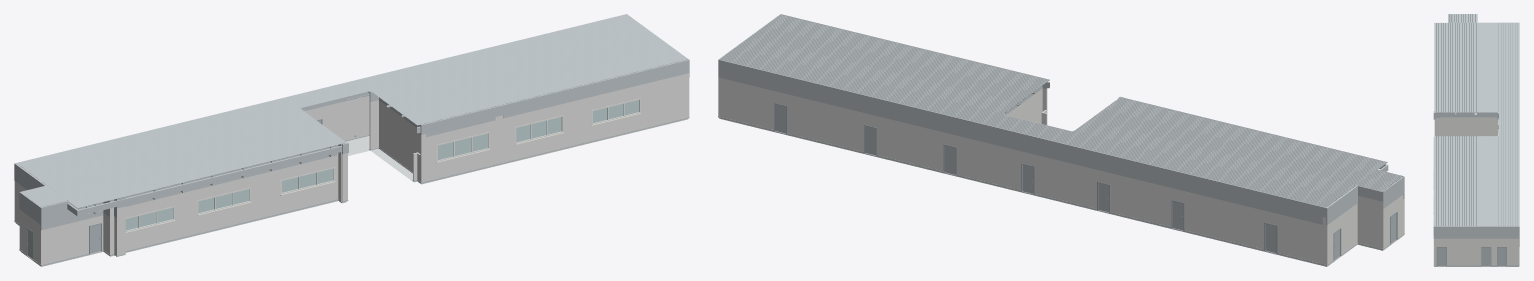
File: space-editor.meshopt.glb
3 views of the same model, side by side, from view 1: azimuth 30°, elevation 25°; view 2: azimuth 150°, elevation 25°; view 3: azimuth 270°, elevation 25° (orthographic). The views are drawn at different scales.
Parts seen in each view (by area): view 1: Space_ceiling, Space_windows, Wall_35_Clean, Wall_18_Clean, Wall_34_Clean, Wall_27_Clean, Wall_31_Clean, Wall_23_Clean, Wall_38_Clean, Wall_19_Clean, Floor_Continuous_00, Space_fixtures (+5 smaller); view 2: Space_ceiling, Wall_38_Clean, Space_doors, Wall_15_Clean, Floor_Continuous_00, Wall_0_Clean, Space_fixtures, Wall_4_Clean, Wall_19_Clean; view 3: Space_ceiling, Wall_13_Clean, Wall_2_Clean, Space_doors, Space_fixtures, Floor_Continuous_00, Wall_22_Clean.
Part boxes in pixels (x1=…): Space_ceiling: x1=14, y1=14, x2=689, y2=230; Space_windows: x1=125, y1=98, x2=641, y2=233; Wall_35_Clean: x1=125, y1=173, x2=262, y2=250; Wall_18_Clean: x1=577, y1=73, x2=688, y2=144; Wall_34_Clean: x1=262, y1=155, x2=337, y2=217; Wall_27_Clean: x1=504, y1=100, x2=577, y2=162; Wall_31_Clean: x1=426, y1=120, x2=495, y2=181; Wall_23_Clean: x1=41, y1=215, x2=103, y2=264; Wall_38_Clean: x1=304, y1=95, x2=369, y2=140; Wall_19_Clean: x1=379, y1=100, x2=420, y2=171; Floor_Continuous_00: x1=16, y1=118, x2=688, y2=266; Space_fixtures: x1=14, y1=117, x2=689, y2=265; Space_ceiling: x1=718, y1=14, x2=1404, y2=225; Wall_38_Clean: x1=719, y1=78, x2=1322, y2=263; Space_doors: x1=774, y1=103, x2=1397, y2=260; Wall_15_Clean: x1=1357, y1=195, x2=1383, y2=248; Floor_Continuous_00: x1=719, y1=118, x2=1403, y2=266; Wall_0_Clean: x1=1328, y1=203, x2=1357, y2=264; Space_fixtures: x1=718, y1=116, x2=1404, y2=265; Wall_4_Clean: x1=1383, y1=194, x2=1404, y2=248; Wall_19_Clean: x1=1006, y1=88, x2=1042, y2=123; Space_ceiling: x1=1433, y1=14, x2=1519, y2=238; Wall_13_Clean: x1=1435, y1=238, x2=1518, y2=266; Wall_2_Clean: x1=1440, y1=117, x2=1497, y2=136; Space_doors: x1=1436, y1=239, x2=1519, y2=266; Space_fixtures: x1=1433, y1=239, x2=1519, y2=266; Floor_Continuous_00: x1=1434, y1=118, x2=1518, y2=266; Wall_22_Clean: x1=1435, y1=118, x2=1439, y2=136.
Bounding box in the file's own units: 49.66 × 4.45 × 8.54.
